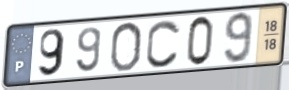0: (185, 14, 216, 67)
9: (222, 10, 255, 66), (36, 27, 66, 78), (75, 26, 103, 74)
C: (144, 18, 182, 70)
O: (108, 20, 144, 74)
